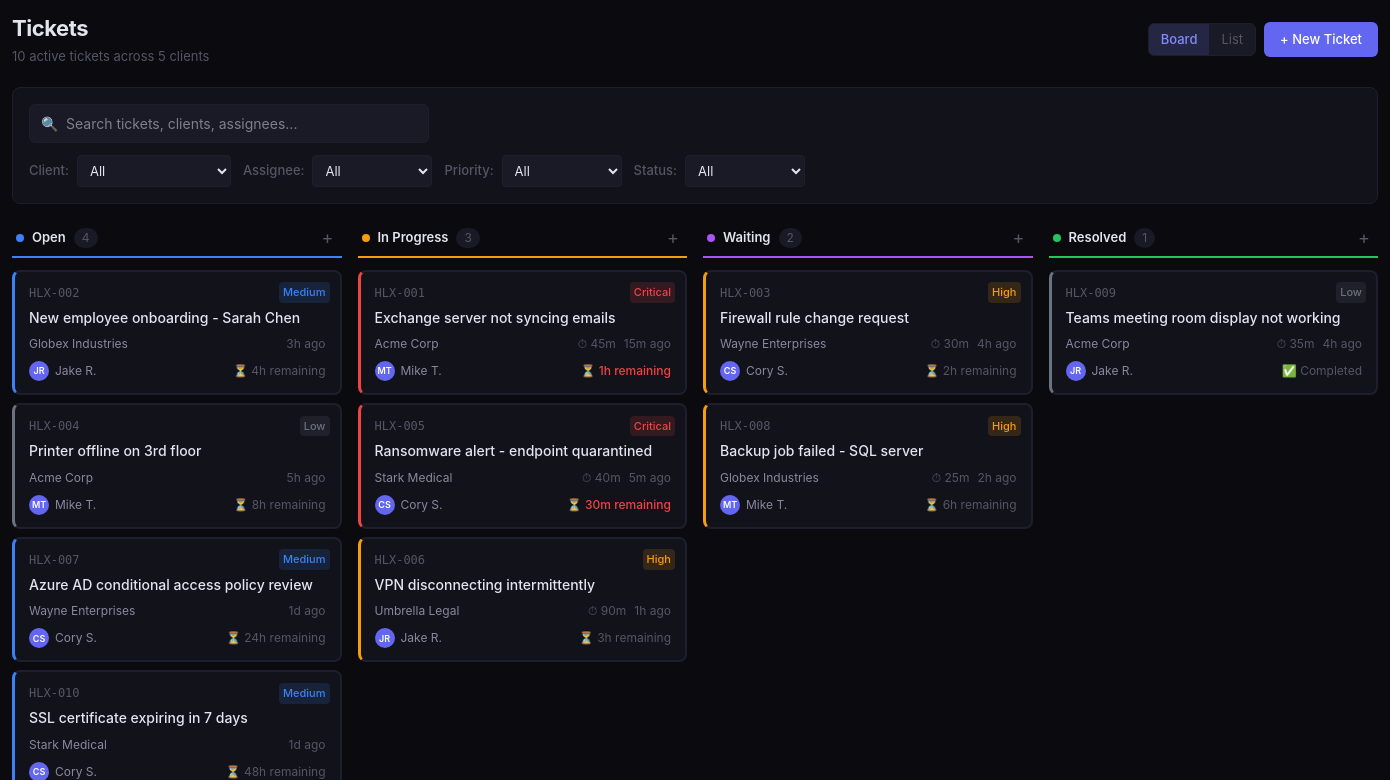
TicketBoard › can switch to list view
The image size is (1390, 780).
Click the button "list" at {"x": 1232, "y": 39}, box [1209,24,1255,55]
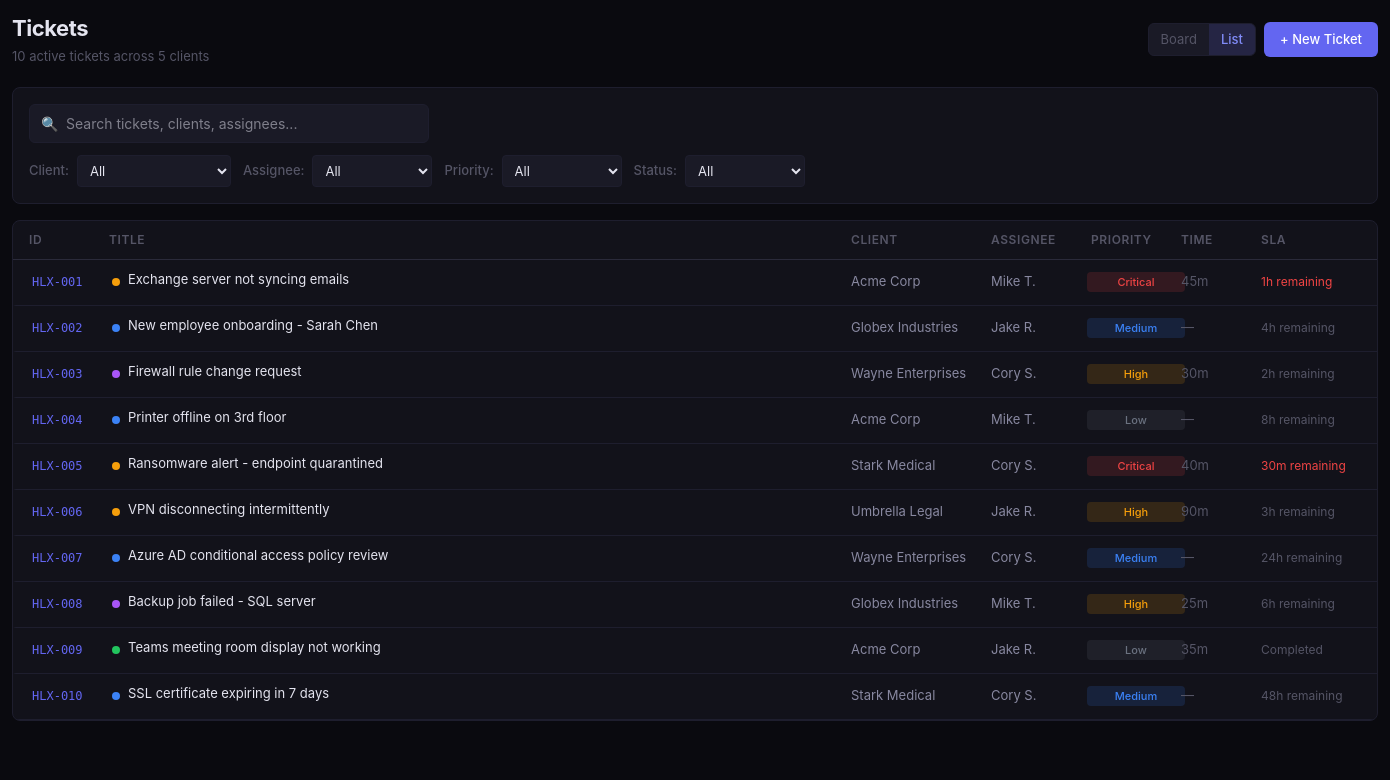
Expected: the text "ID" is shown, [29,232,42,246]
Expected: the text "Title" is shown, [109,232,145,246]
